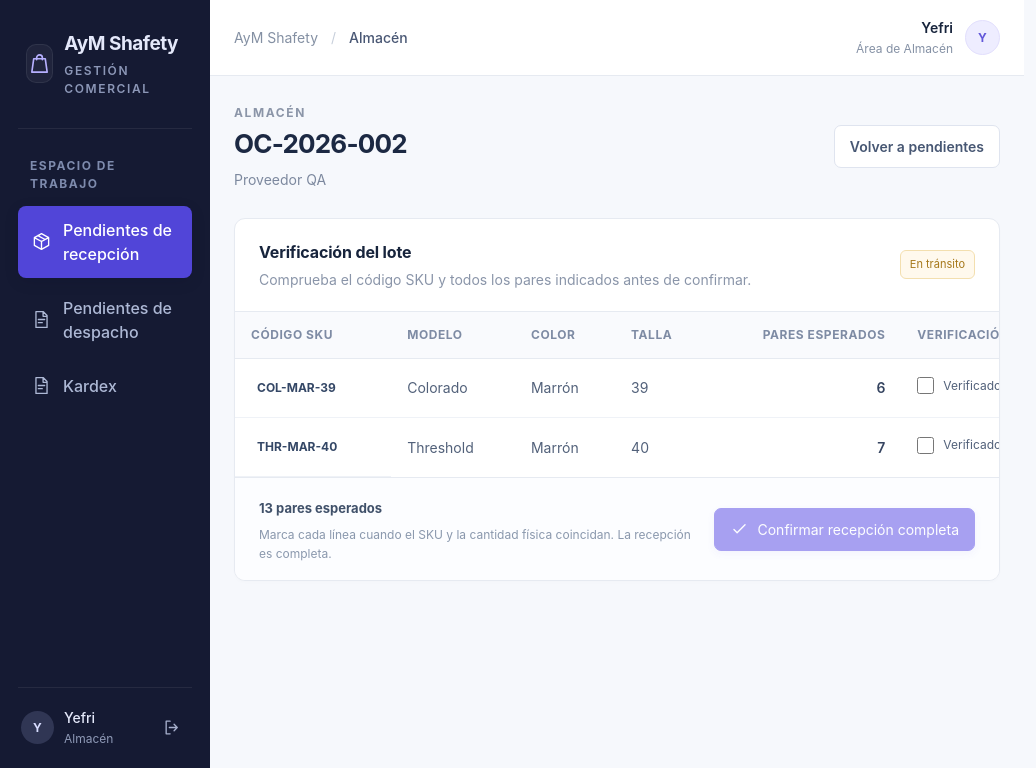
Test case: permite desistir y reintentar un error sin cambiar la clave ni duplicar la operación
Click the checkbox named "Verificar SKU COL-MAR-39" at (926, 386), box [917, 377, 934, 394]
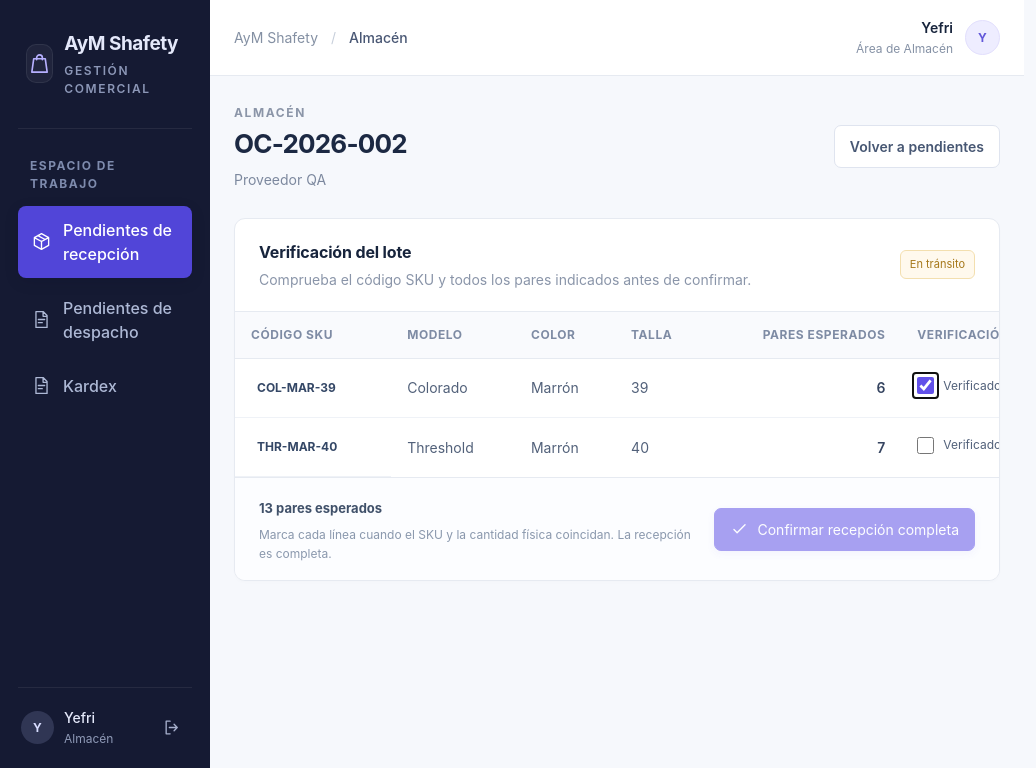
Click the checkbox named "Verificar SKU THR-MAR-40" at (926, 445), box [917, 436, 934, 454]
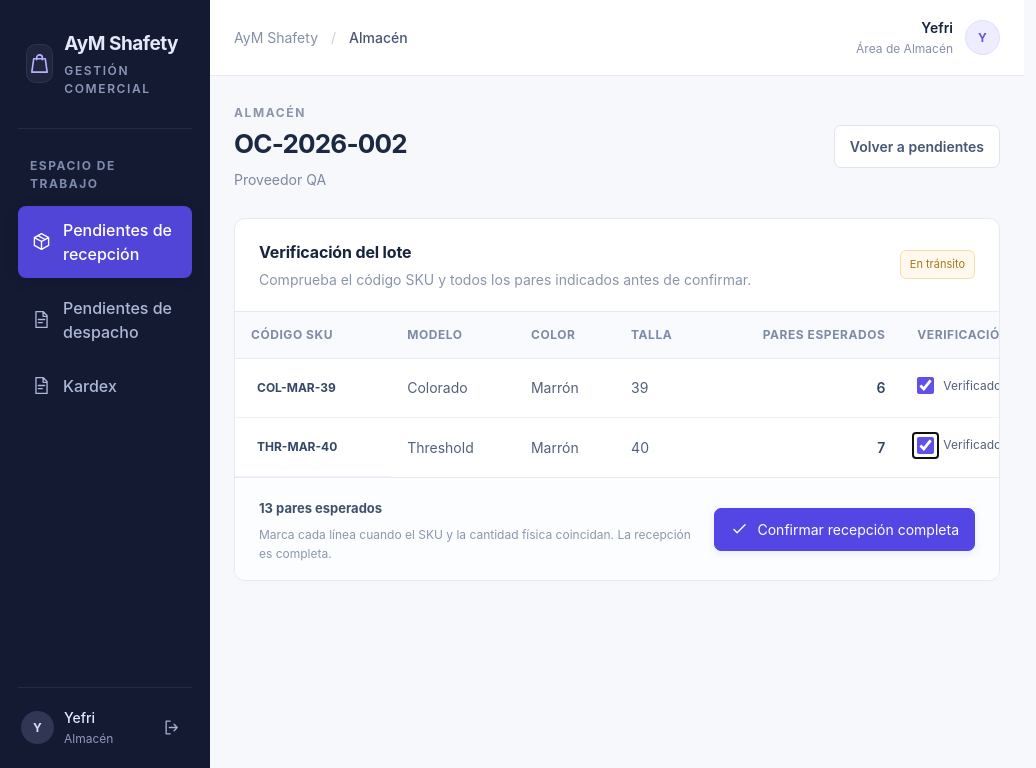
Click the button "Confirmar recepción completa" at (845, 529), box [714, 508, 975, 551]
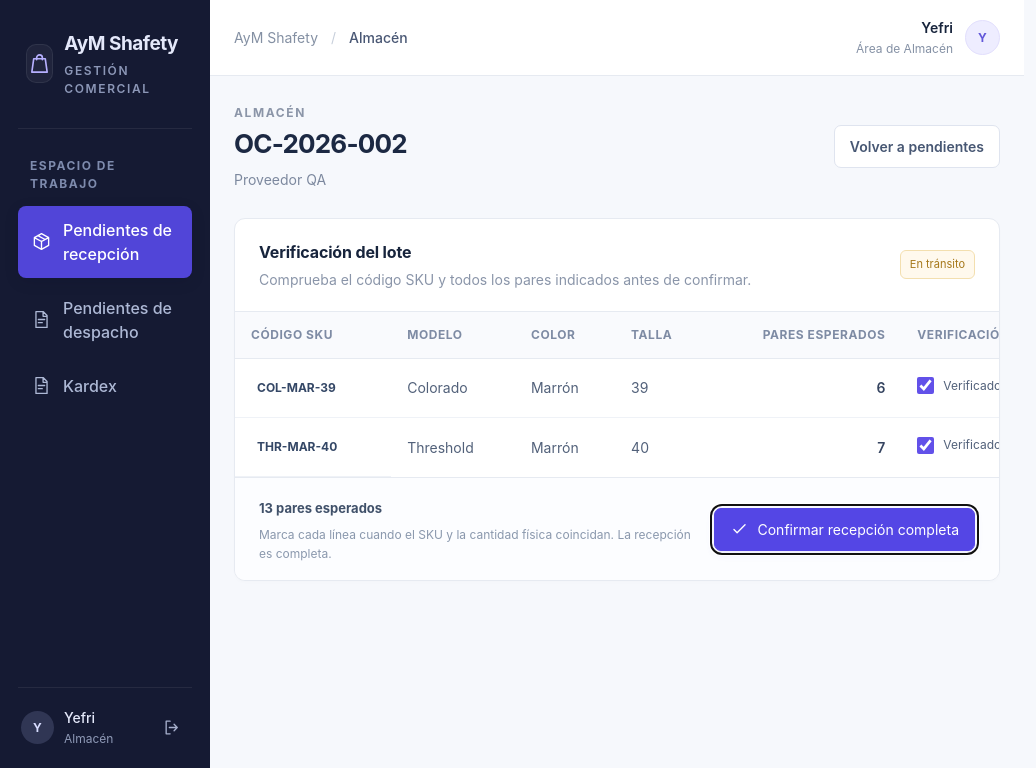
Click the button "Confirmar recepción completa" at (845, 529), box [714, 508, 975, 551]
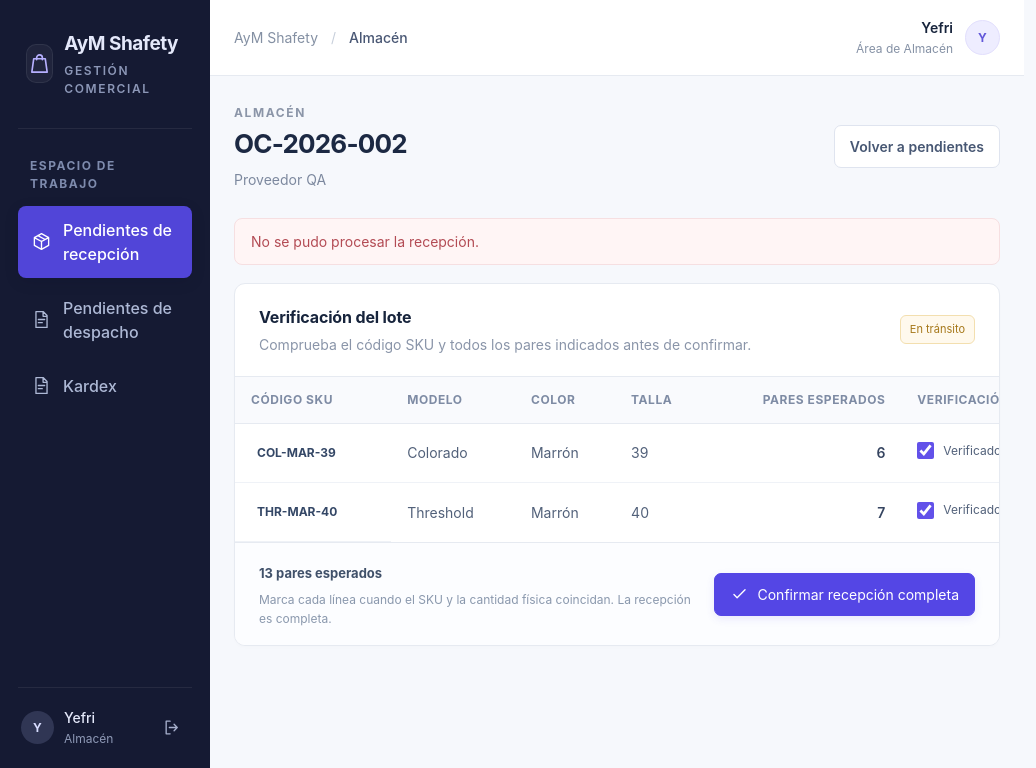
Result: the message reads "No se pudo procesar la recepción." at [251, 232, 479, 250]
Click the button "Confirmar recepción completa" at (845, 594), box [714, 573, 975, 616]
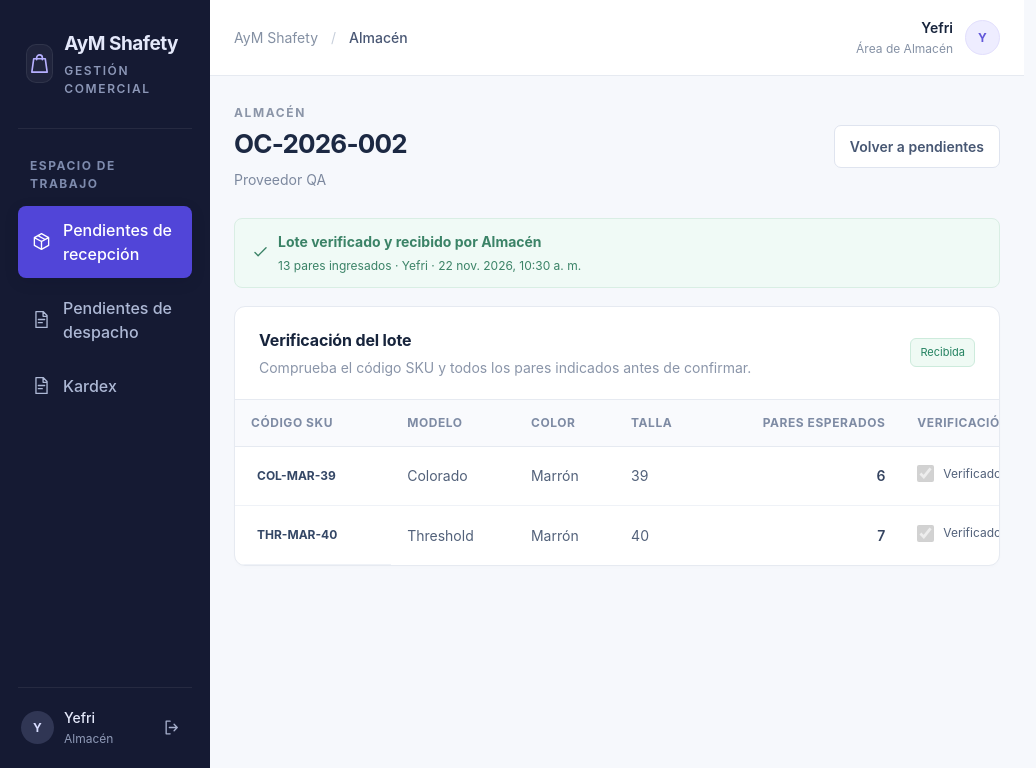
Result: the message is shown at [234, 218, 1000, 288]
